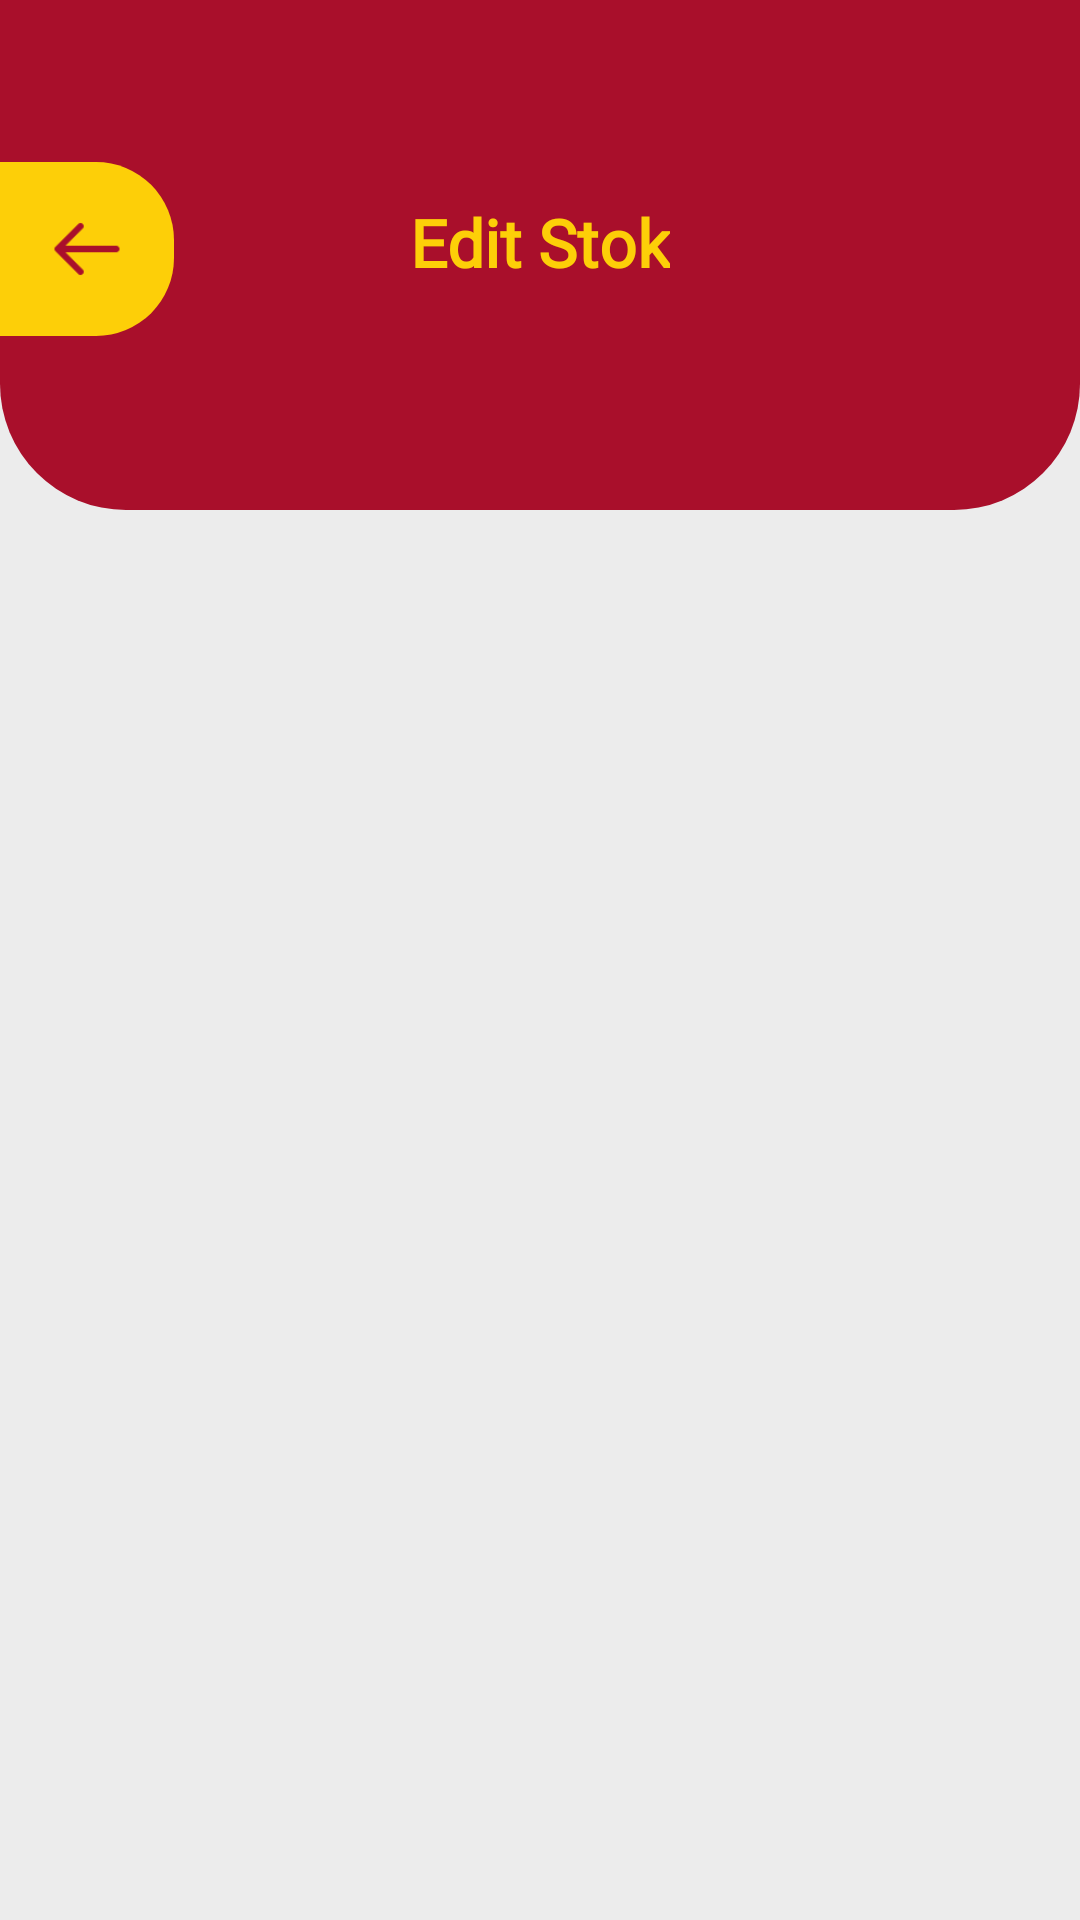

Named icons in this screenshot (1080px x 1920px) and their bounding boxes, (left=x1, top=y1, right=x2, bottom=y2):
back: (left=54, top=223, right=120, bottom=275)
